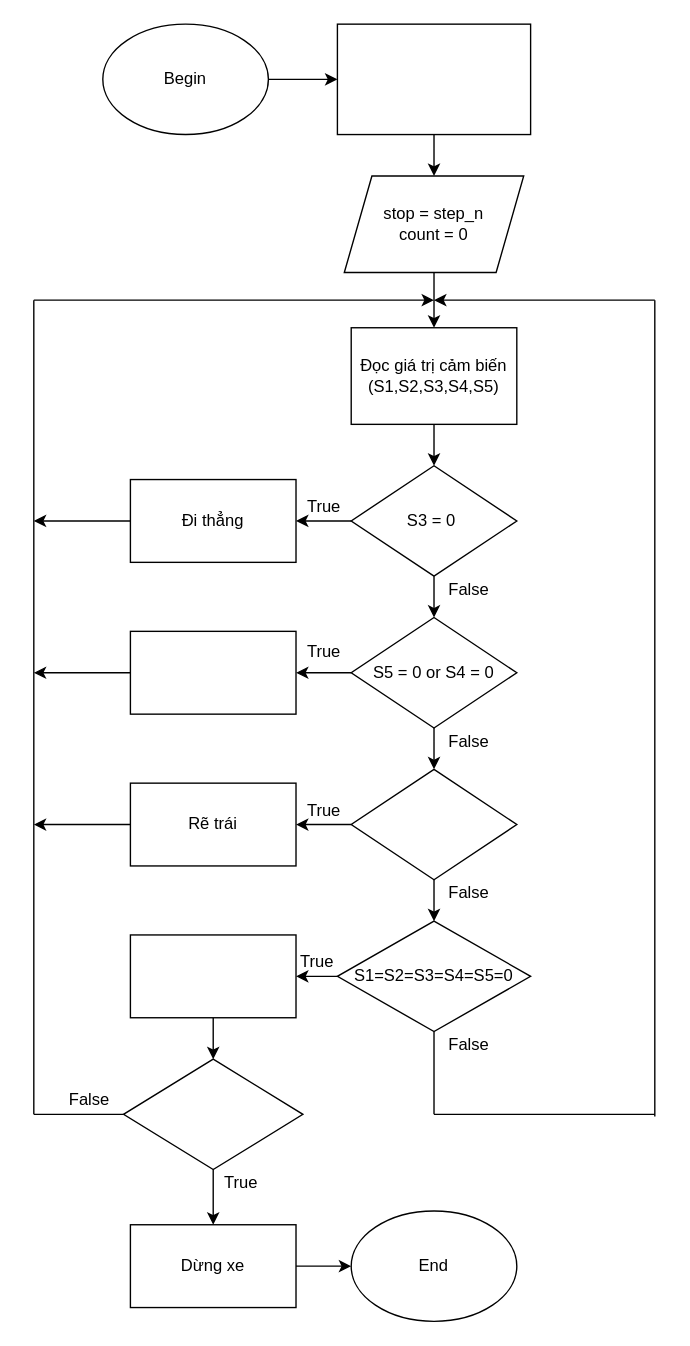
Image size: 690x1346. Some labels were removed from this diagram. The shapes that lost their labels are listed below. From the top down, each one's box as (x1, y1, x2, y2) in pixels, then its label:
(336, 23, 531, 135): Nhận chỉ thị từ GUI app (step_n, speed)
(129, 630, 296, 714): Rẽ phải
(350, 768, 517, 880): S1 = 0 or S2 = 0
(129, 934, 296, 1018): count = count + 1
(122, 1058, 303, 1170): count = stop
